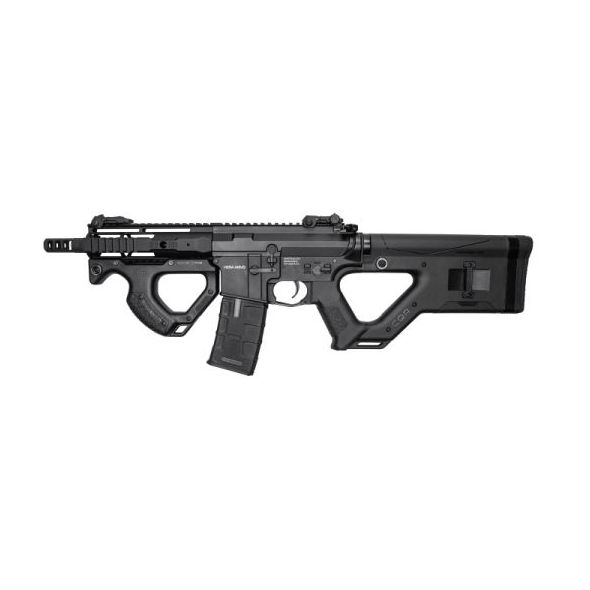Arma Real: (45, 210, 537, 379)
